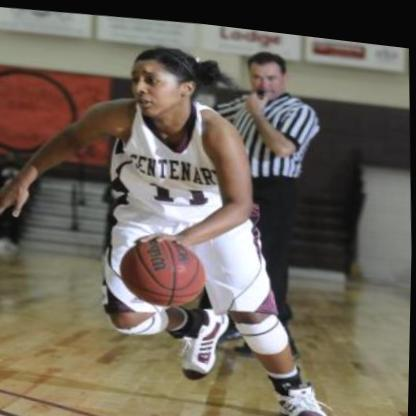basketball: (119, 228, 209, 307)
